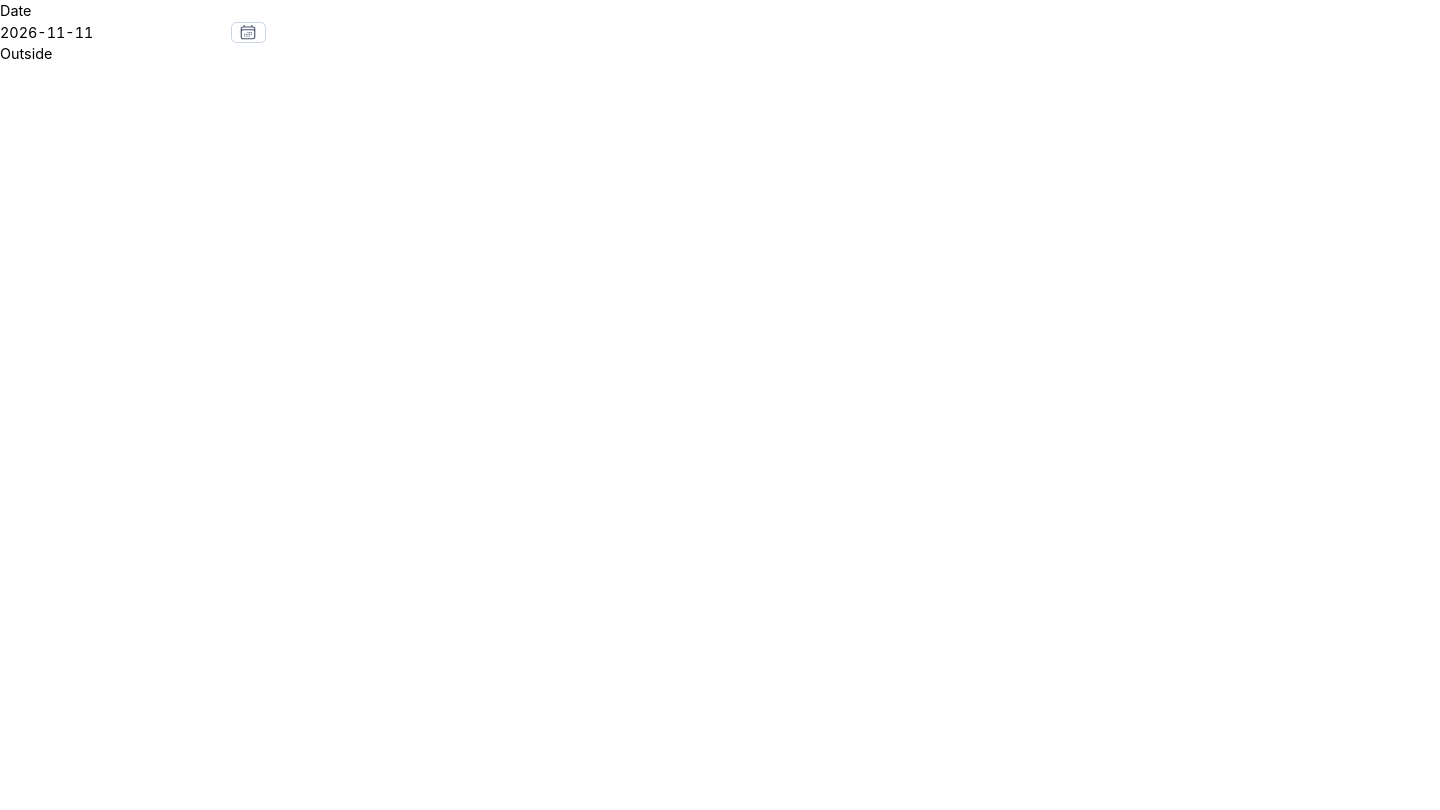
Test: DateInput › associates the calendar with its button and restores focus after Escape
Click the button named "Wybierz datę z kalendarza" at (248, 32), box 231,22 -> 266,43
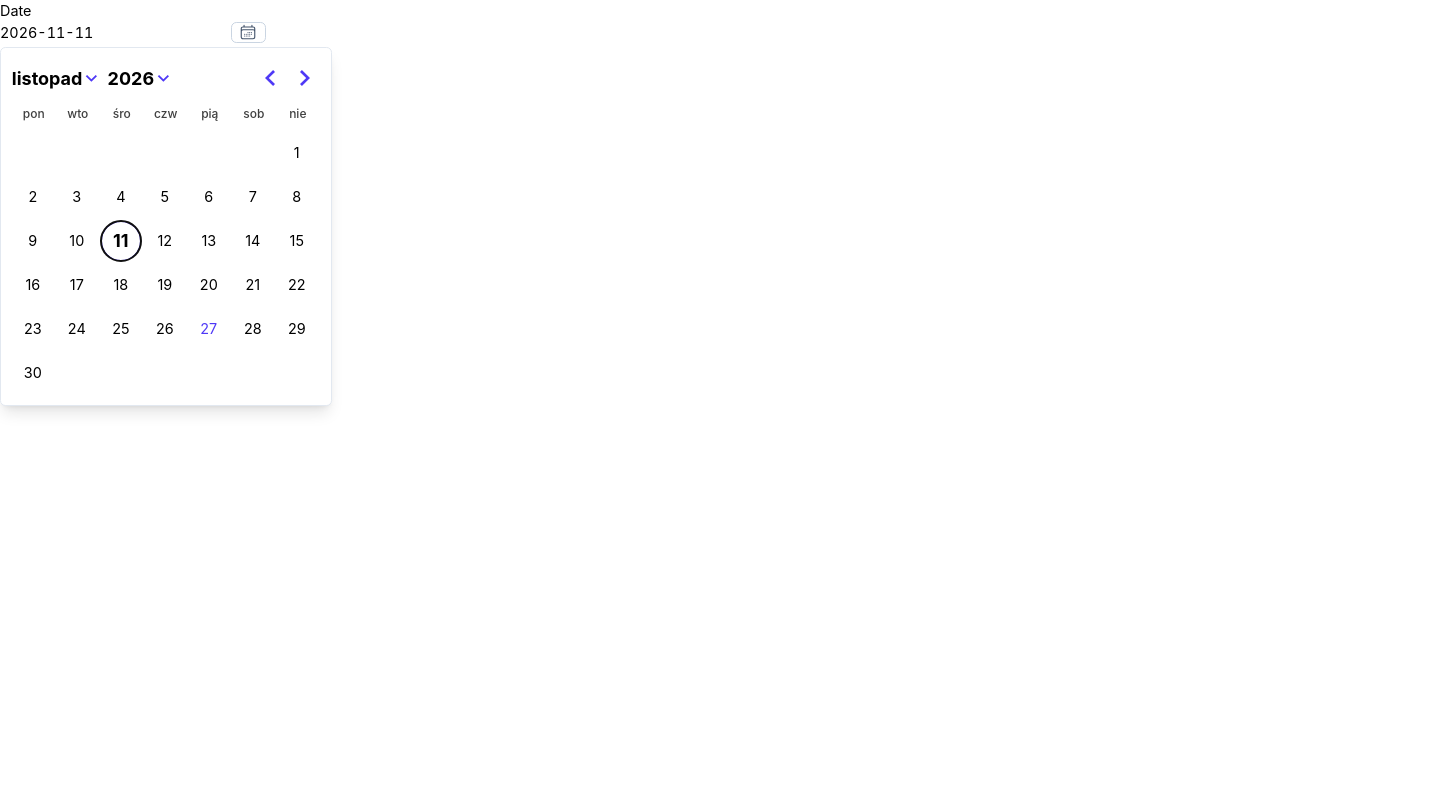
Press Escape
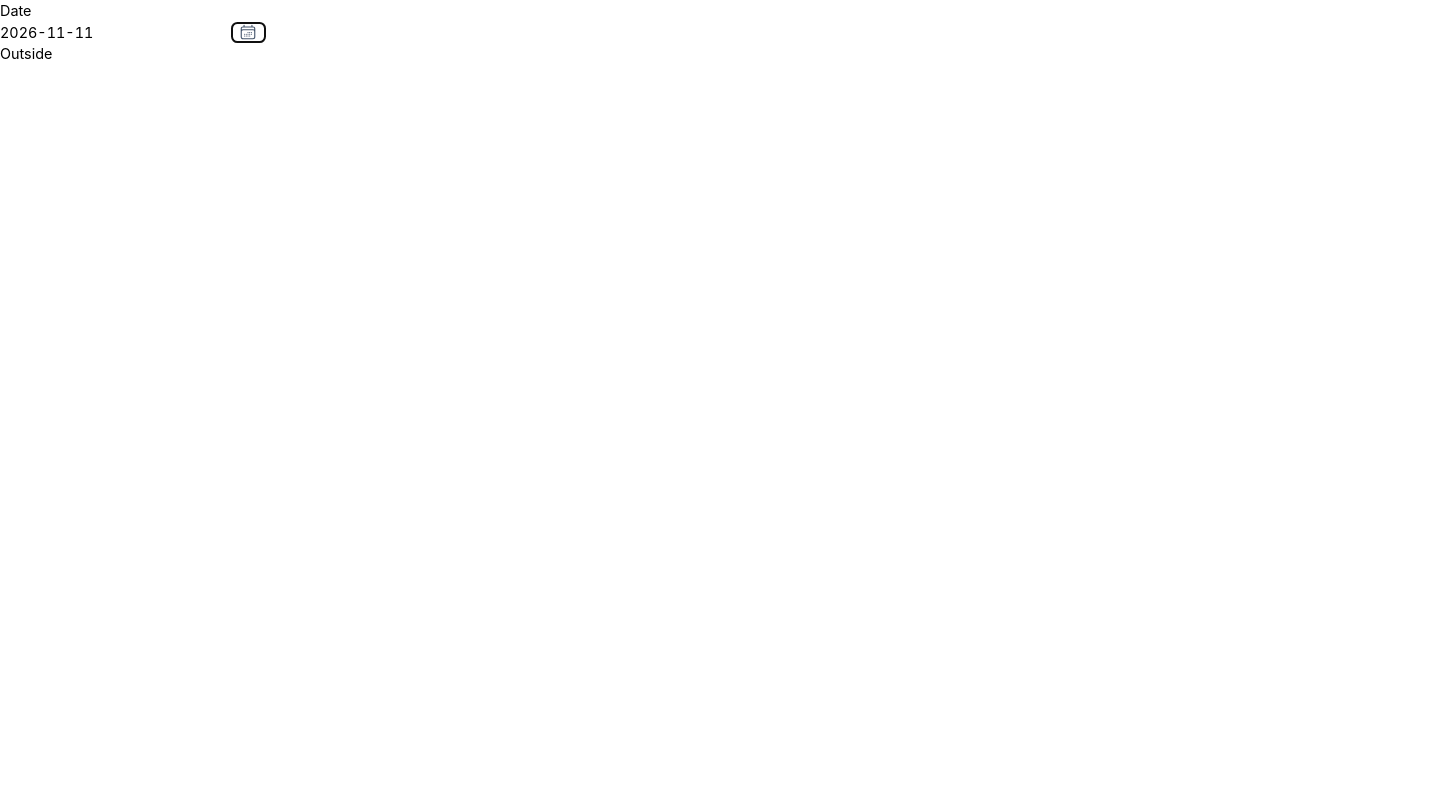
Now the dialog is gone
